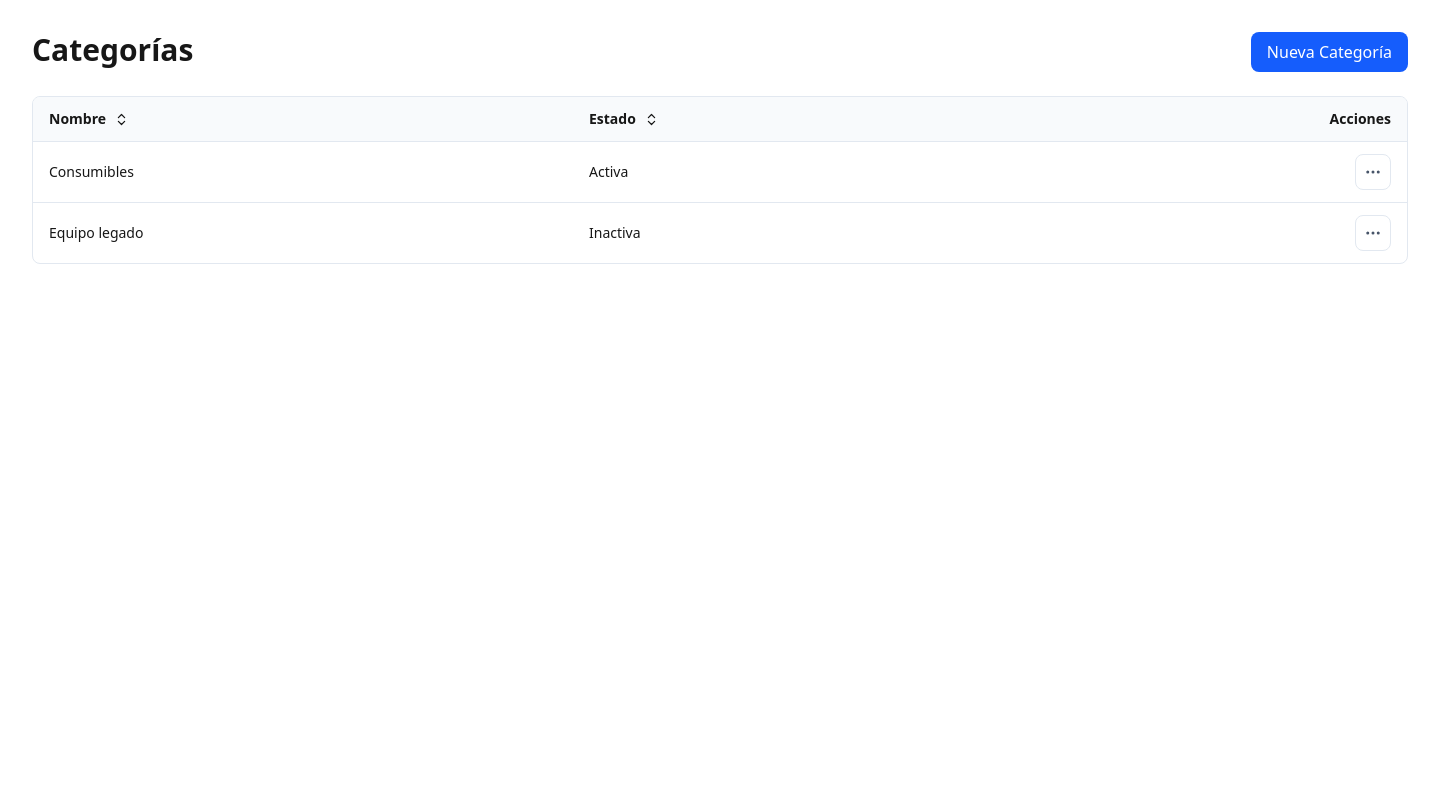
CategoriesPage › edits a category through the existing action and payload
Check: the text "Consumibles" is shown, box 33,142 -> 573,202
Click the button named "Acciones de Consumibles". click: (1373, 172)
box: 1355,154 -> 1391,190
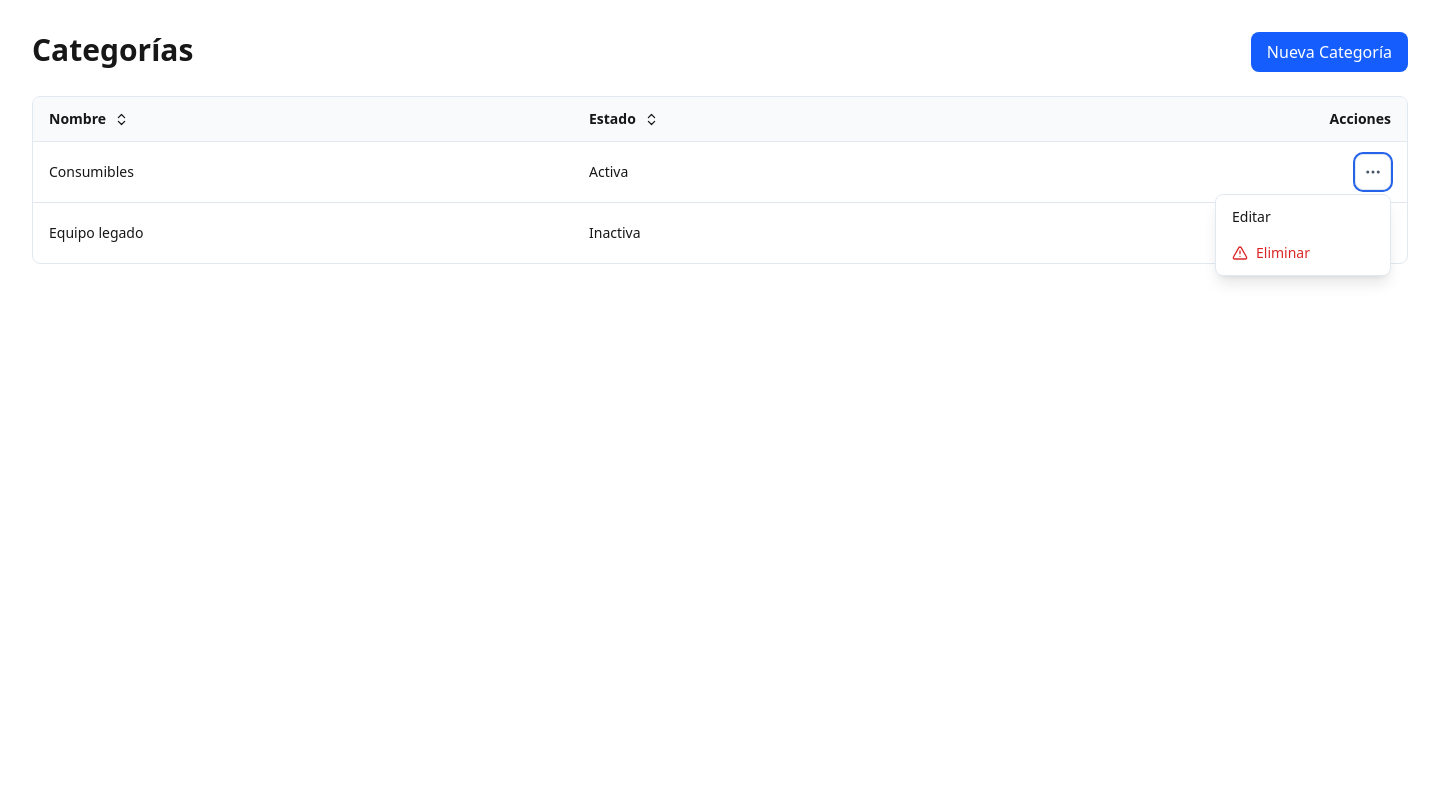
Click the menu item "Editar". click: (1303, 217)
box: 1220,199 -> 1386,235
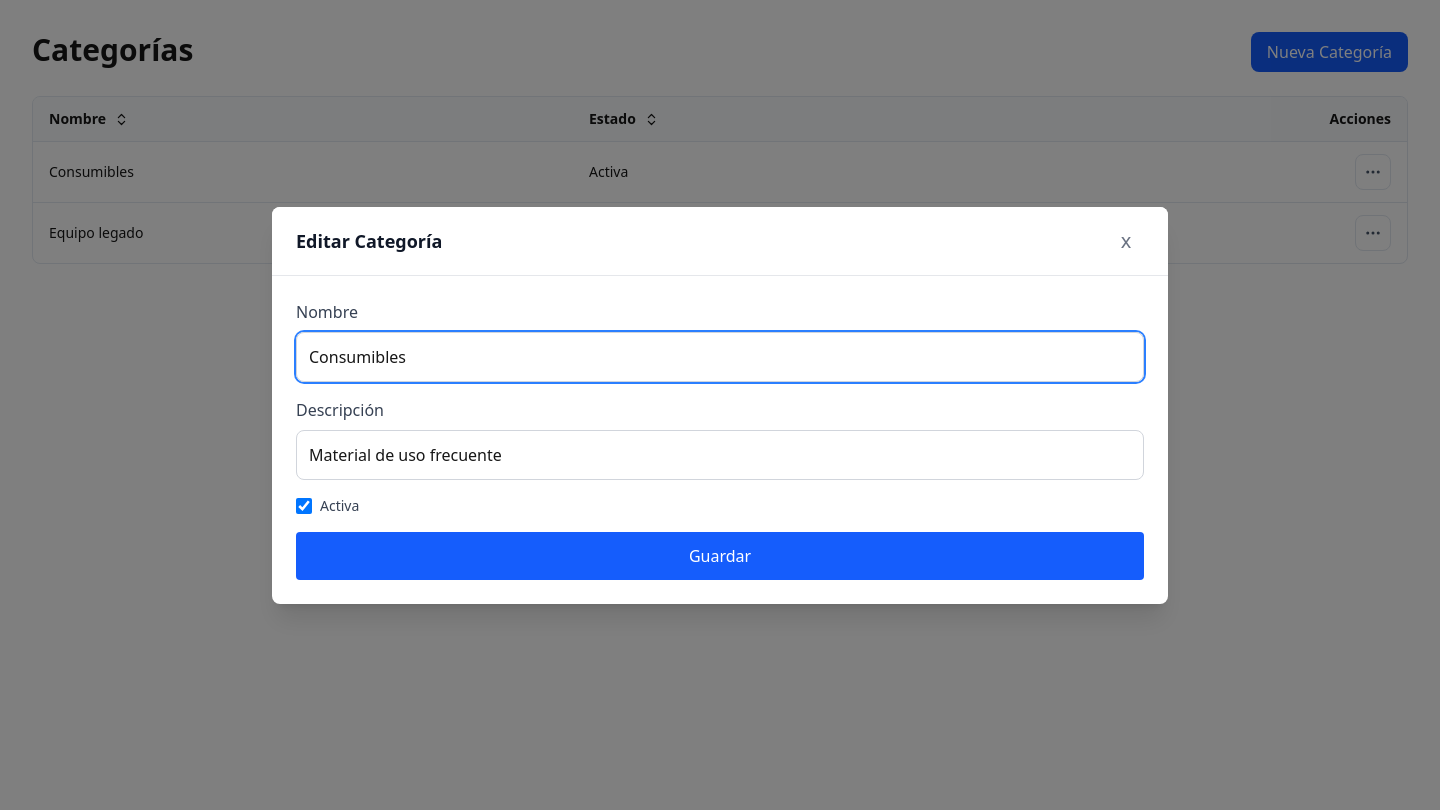
Replace the text in the field labelled "Nombre" with "Consumibles clínicos". click: (720, 356)
box: 296,332 -> 1144,382
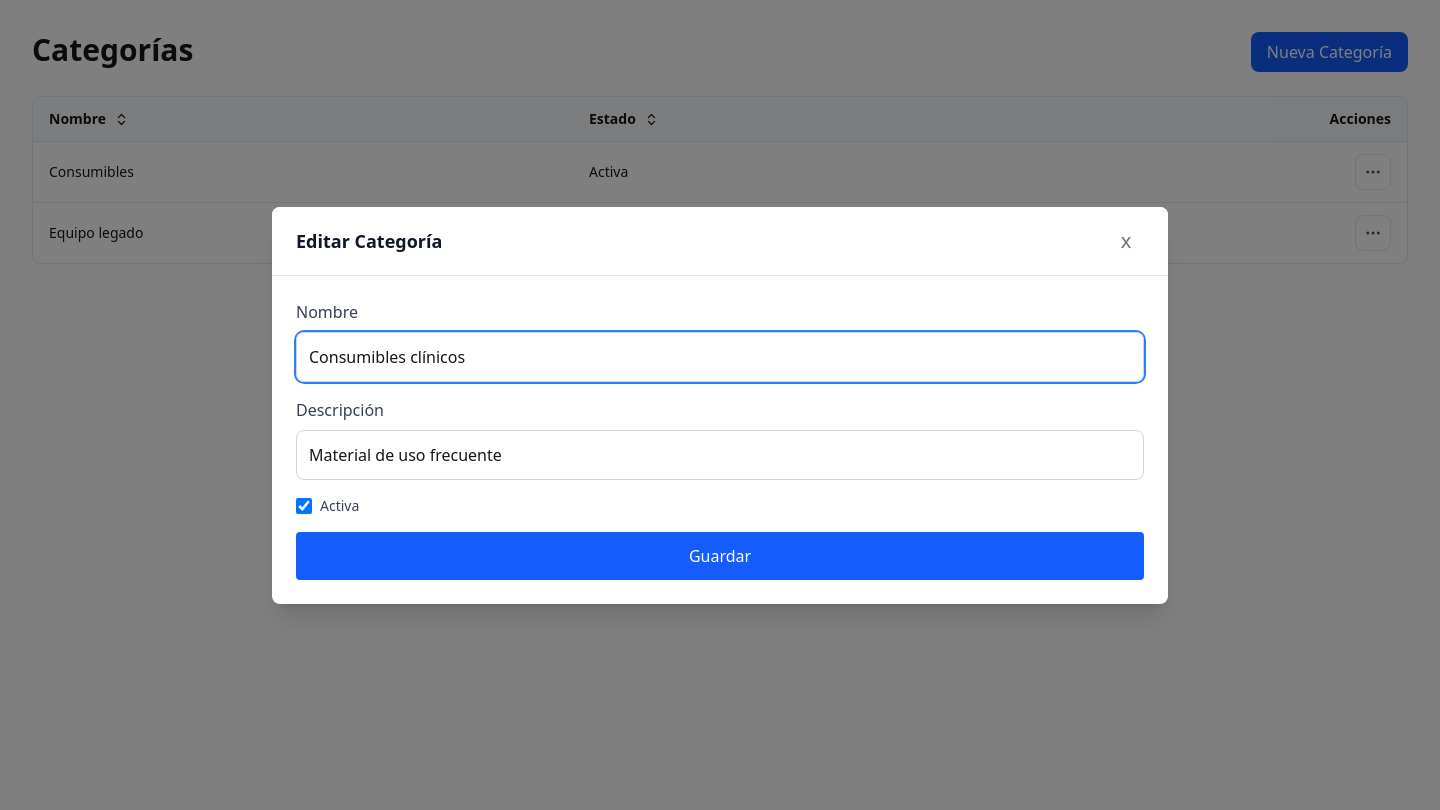
Click the button "Guardar". click: (720, 556)
box: 296,532 -> 1144,580
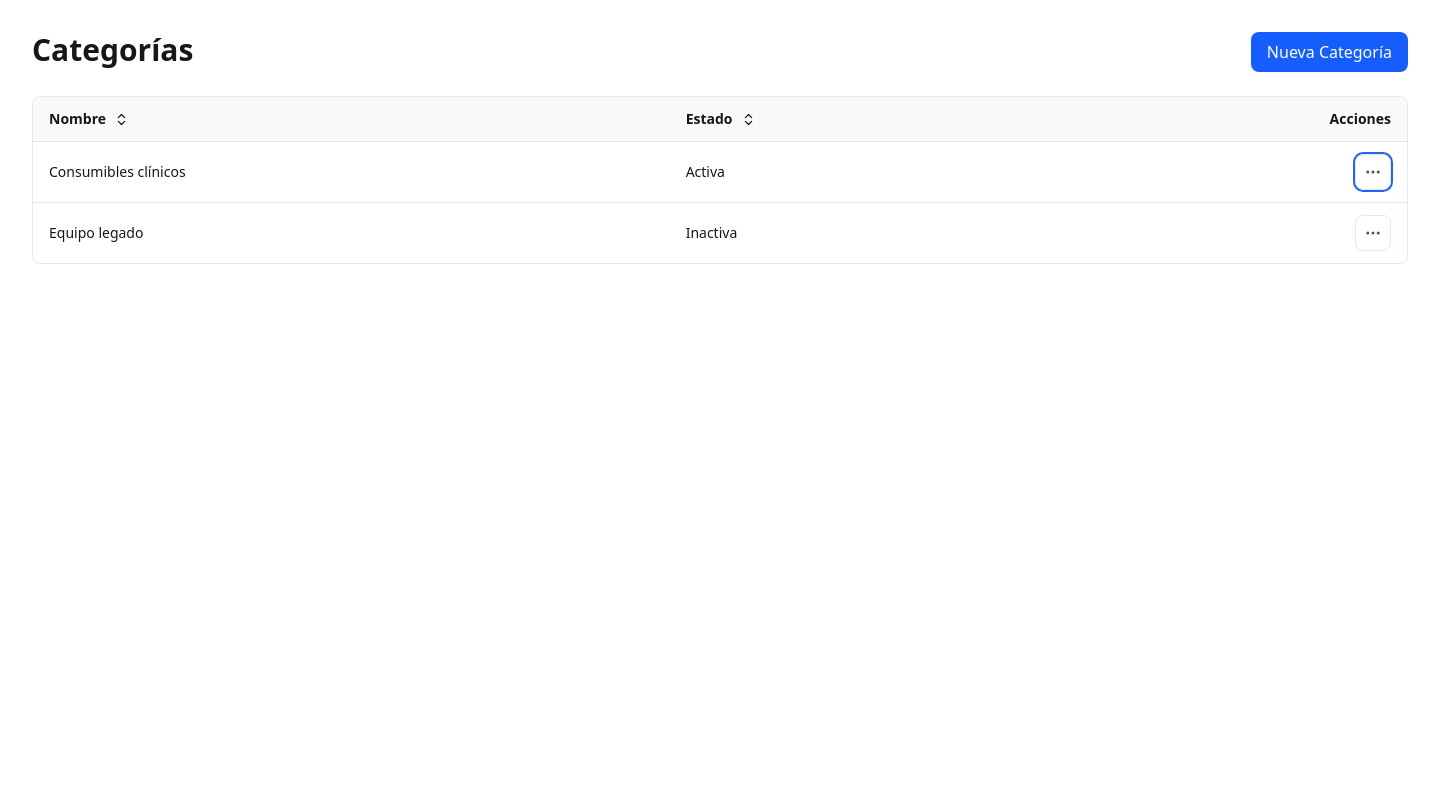
Check: the text "Consumibles clínicos" is shown, box 33,142 -> 670,202
